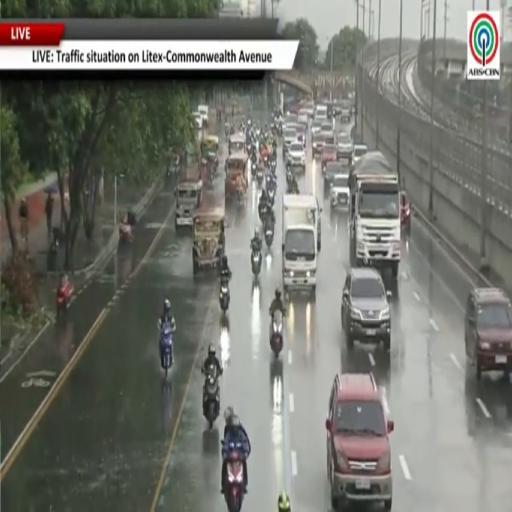car: (325, 374, 393, 510), (465, 287, 511, 379), (342, 267, 391, 353), (324, 160, 349, 188), (330, 174, 349, 209), (286, 141, 306, 172), (400, 190, 411, 234), (321, 144, 336, 173), (337, 133, 353, 159), (283, 128, 296, 154), (352, 143, 368, 163), (312, 133, 325, 157), (338, 101, 351, 123), (283, 113, 298, 130), (296, 124, 306, 148), (198, 105, 208, 126), (192, 112, 203, 130), (304, 102, 314, 119), (298, 108, 308, 125), (320, 121, 333, 134), (312, 120, 321, 135)
jeepney: (193, 207, 224, 275), (176, 167, 202, 229), (225, 152, 248, 199), (201, 136, 219, 171), (229, 134, 245, 155)
motorcycle: (221, 440, 245, 511), (202, 365, 221, 429), (161, 326, 173, 377), (270, 311, 283, 357), (56, 280, 73, 315), (219, 280, 229, 313), (251, 251, 263, 277), (119, 222, 133, 244), (265, 221, 273, 248), (267, 183, 276, 205), (287, 183, 299, 195), (237, 187, 245, 205), (286, 169, 294, 185), (251, 161, 258, 179), (256, 168, 263, 185), (270, 159, 276, 172), (225, 122, 230, 137)
truck: (349, 151, 401, 278), (282, 195, 321, 293)
